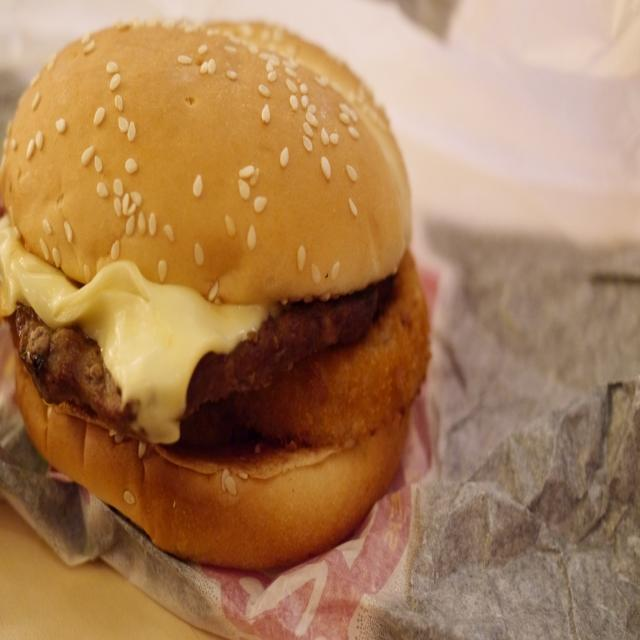Hamburger: (0, 18, 434, 576)
